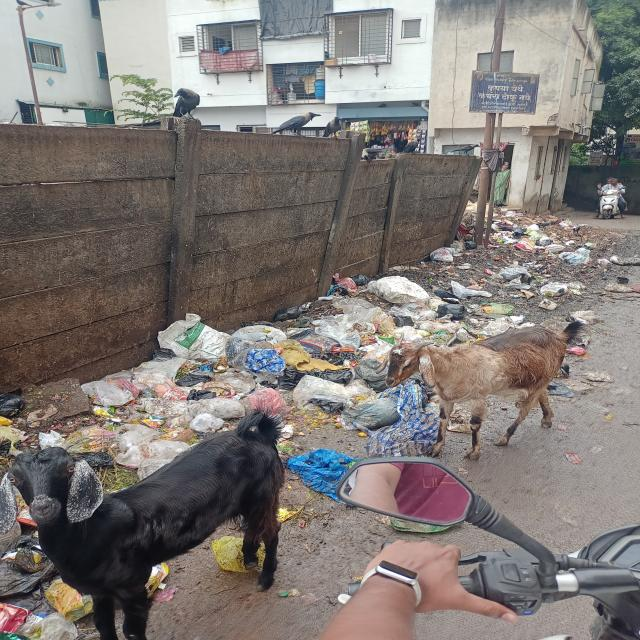garbage: (17, 281, 457, 471), (435, 216, 578, 307)
